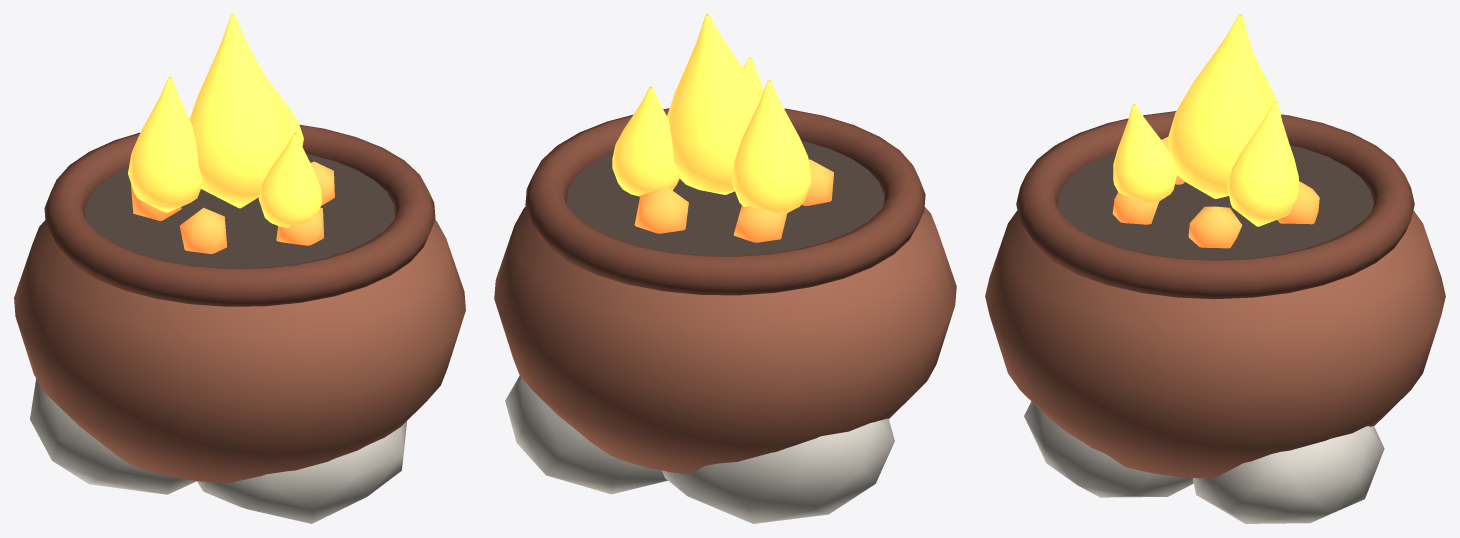
Rendered from firepot.glb.
3 renders of one model, left to right at view 1: azimuth 30°, elevation 25°; view 2: azimuth 150°, elevation 25°; view 3: azimuth 270°, elevation 25°, orthographic. The views are drawn at different scales.
Parts seen in each view (by area): view 1: firepot; view 2: firepot; view 3: firepot.
Part boxes in pixels (<box>): firepot: <box>14,14,465,523</box>; firepot: <box>494,14,956,523</box>; firepot: <box>985,14,1445,523</box>.
Size of the model in its own units: 0.49 by 0.5496 by 0.49.
